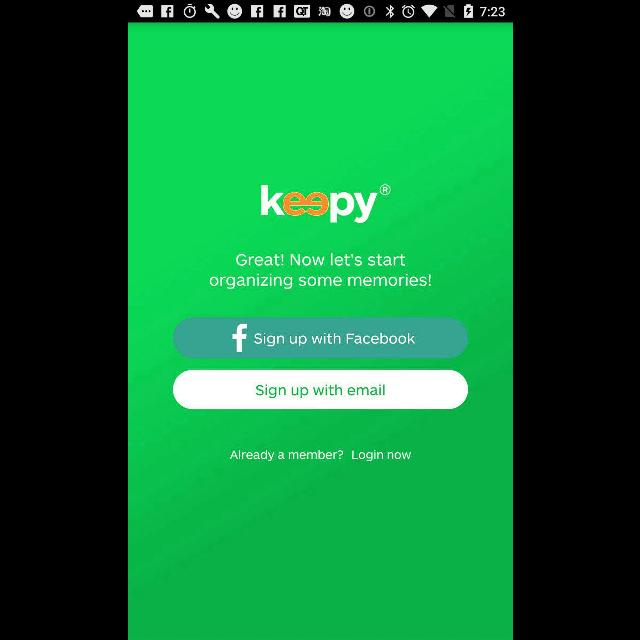image: (260, 184, 390, 223)
text: (209, 252, 431, 290), (230, 450, 410, 462)
textbutton: (172, 317, 468, 358), (172, 370, 468, 410)
uppertaskbar: (128, 1, 512, 23)
